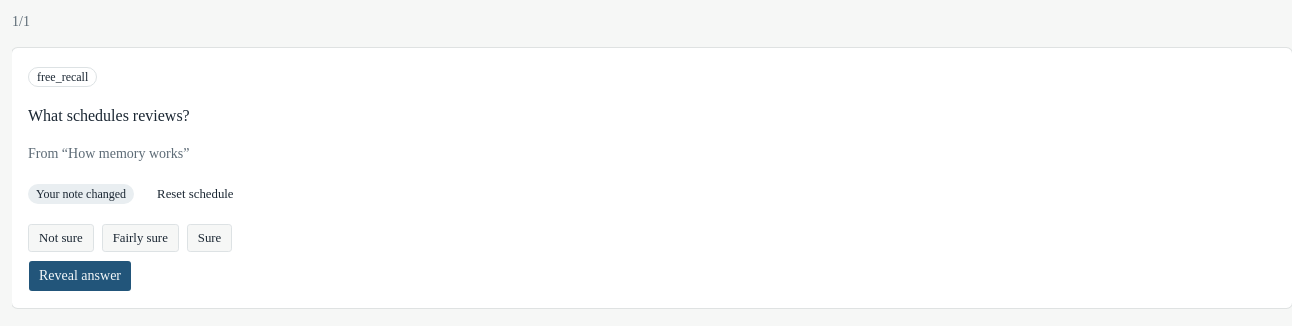
Scenario: ReviewScreen note-changed badge and reset (NL-12/NL-13) › resets the schedule on explicit confirm and retires the badge
Expected: the text "What schedules reviews?" is shown, [28,107,190,124]
Step 1. Click the button "Reset schedule" → (195, 194), box [146,180,244,208]
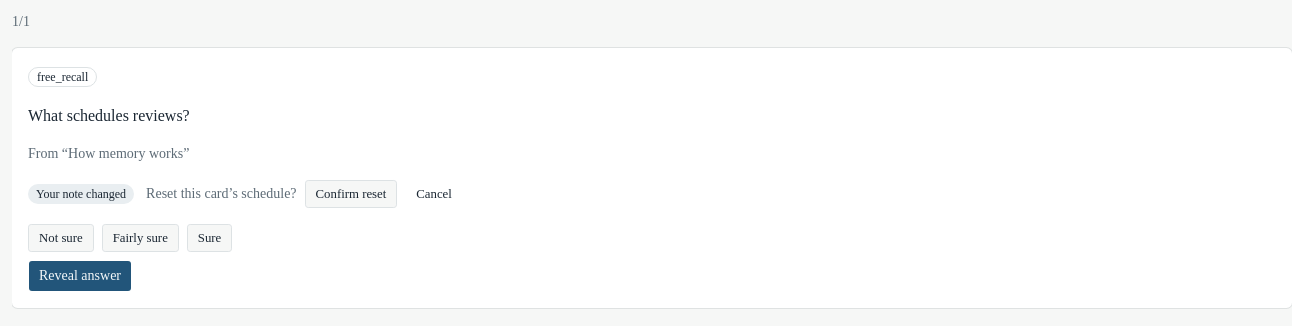
Step 2. Click the button "Confirm reset" → (351, 194), box [305,180,397,208]
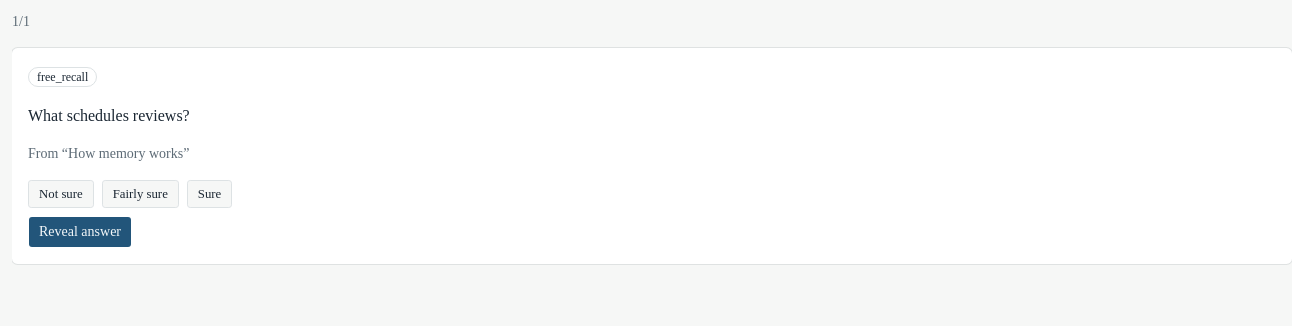
Expected: the text with test id "position" reads "1/1", [12,14,30,29]
Expected: the link with test id "note-changed-badge" is gone
